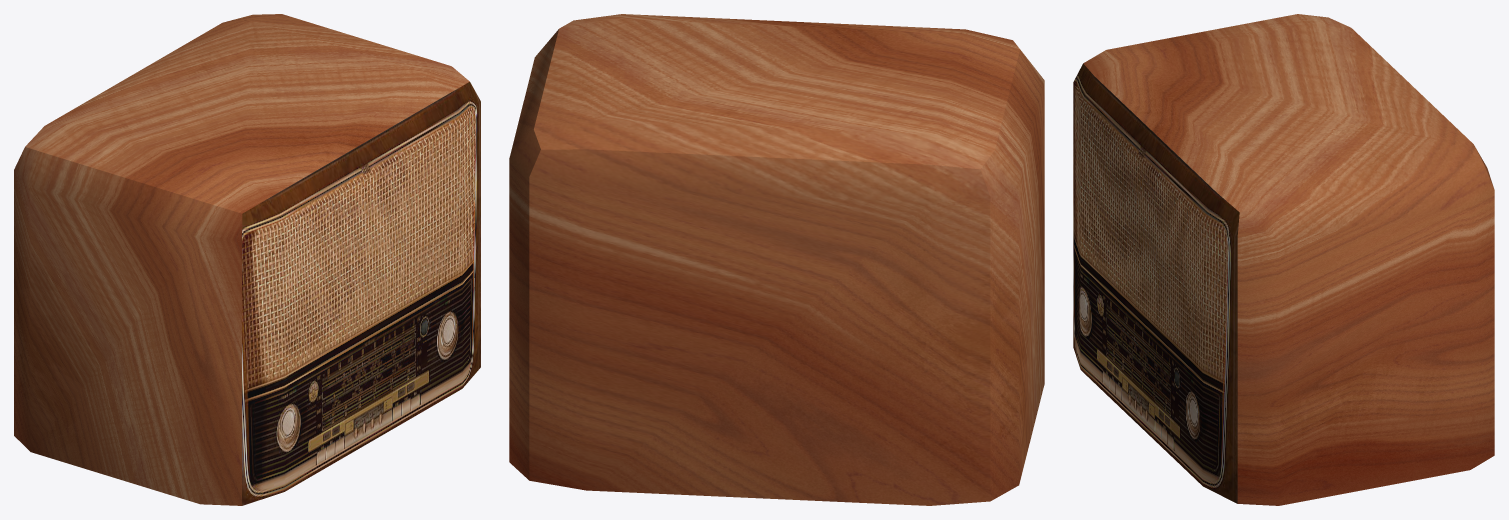
Rendered from radio.fbx.
3 views of the same model, side by side, from view 1: azimuth 30°, elevation 25°; view 2: azimuth 150°, elevation 25°; view 3: azimuth 270°, elevation 25° (orthographic). The views are drawn at different scales.
Parts seen in each view (by area): view 1: Plane.001; view 2: Plane.001; view 3: Plane.001.
Part boxes in pixels (x1,y1,x2,y2): Plane.001: [14, 14, 480, 505]; Plane.001: [509, 14, 1044, 505]; Plane.001: [1073, 14, 1494, 505].
Size of the model in its own units: 91.94 by 62.08 by 78.42.
